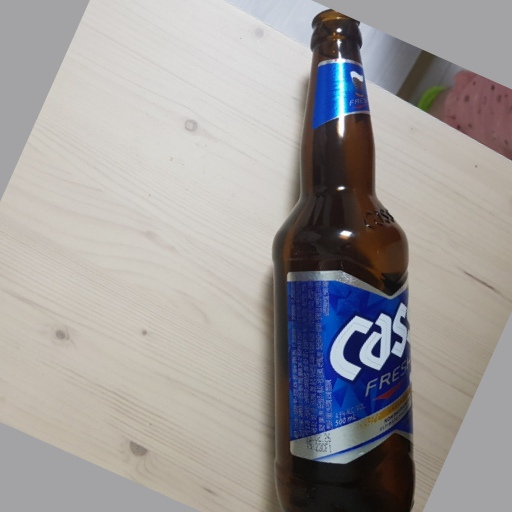Glass_1: (270, 6, 417, 512)
